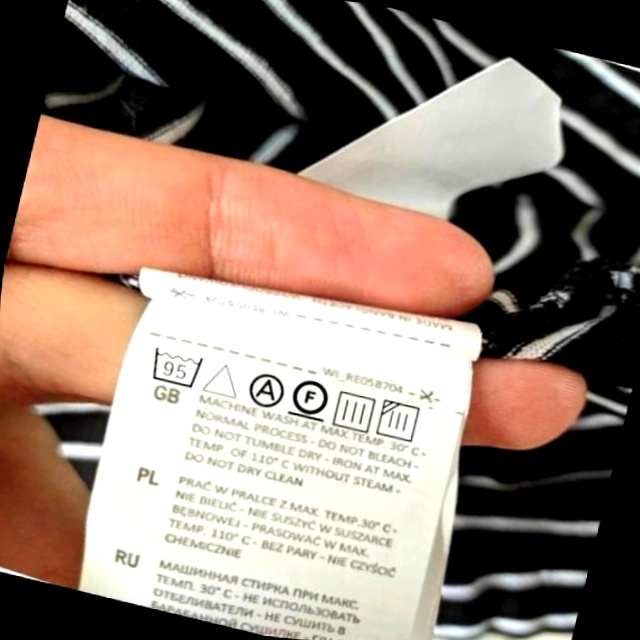95C: (145, 342, 208, 392)
bleach: (202, 355, 244, 403)
drip_dry: (329, 386, 380, 436)
drip_dry_in_shade: (374, 396, 427, 448)
dry_clean: (243, 368, 288, 412)
dry_clean_petrol_only: (287, 372, 335, 425)
